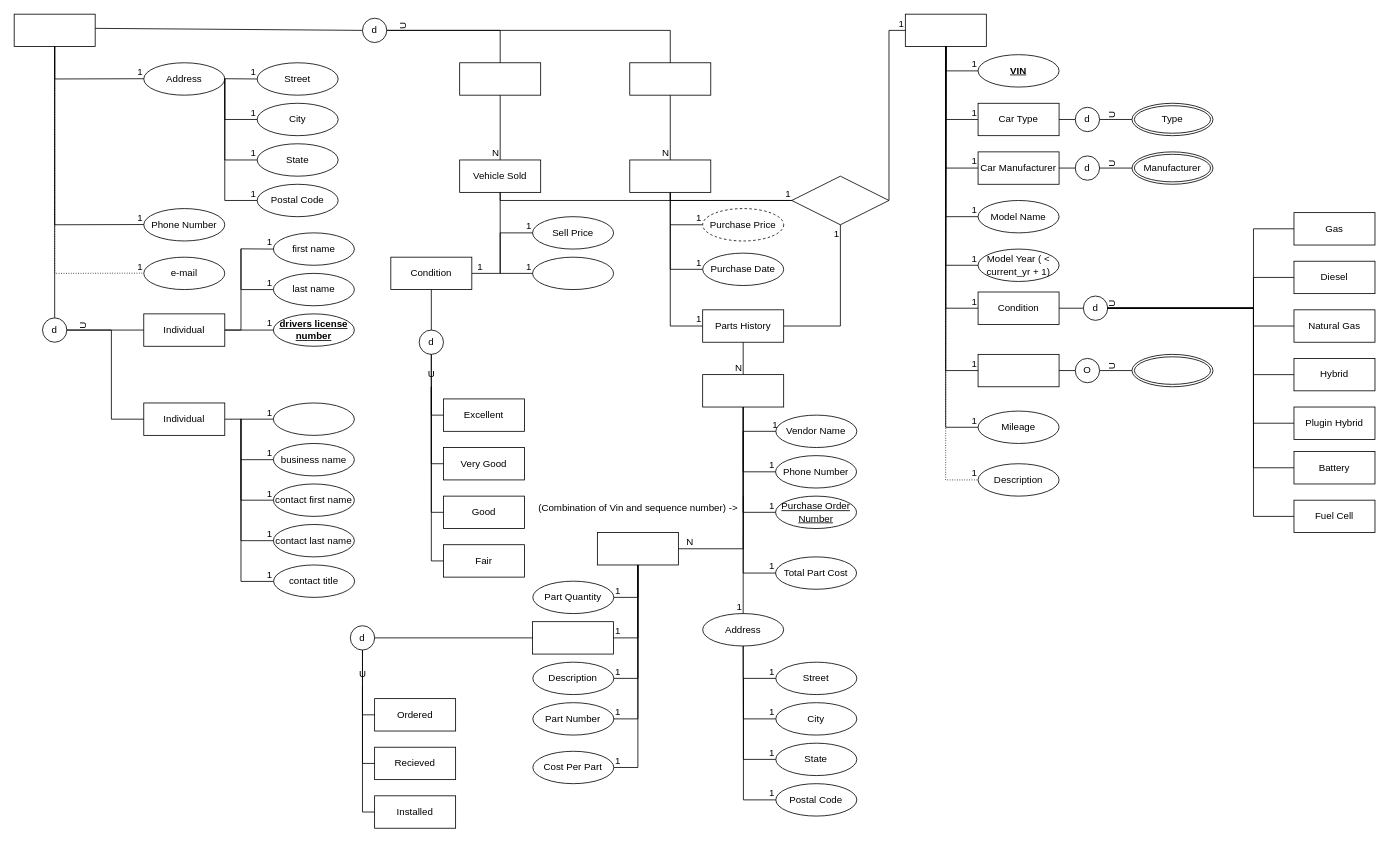
This 1389x842 diagram has some shape labels left out. Each missing label, with the centre of its shape:
"business tax id" belongs at (x=313, y=418).
"Buyer" belongs at (x=670, y=78).
"Color" belongs at (x=1018, y=370).
"Colors" belongs at (x=1172, y=370).
"Customer" belongs at (x=54, y=30).
"Has" belongs at (x=840, y=200).
"Part" belongs at (x=637, y=548).
"Parts Order" belongs at (x=743, y=390).
"Sell Date" belongs at (x=573, y=273).
"Seller" belongs at (x=500, y=78).
"Status" belongs at (x=573, y=637).
"Vehicle" belongs at (x=945, y=30).
"Vehicle Bought" belongs at (x=670, y=175).
